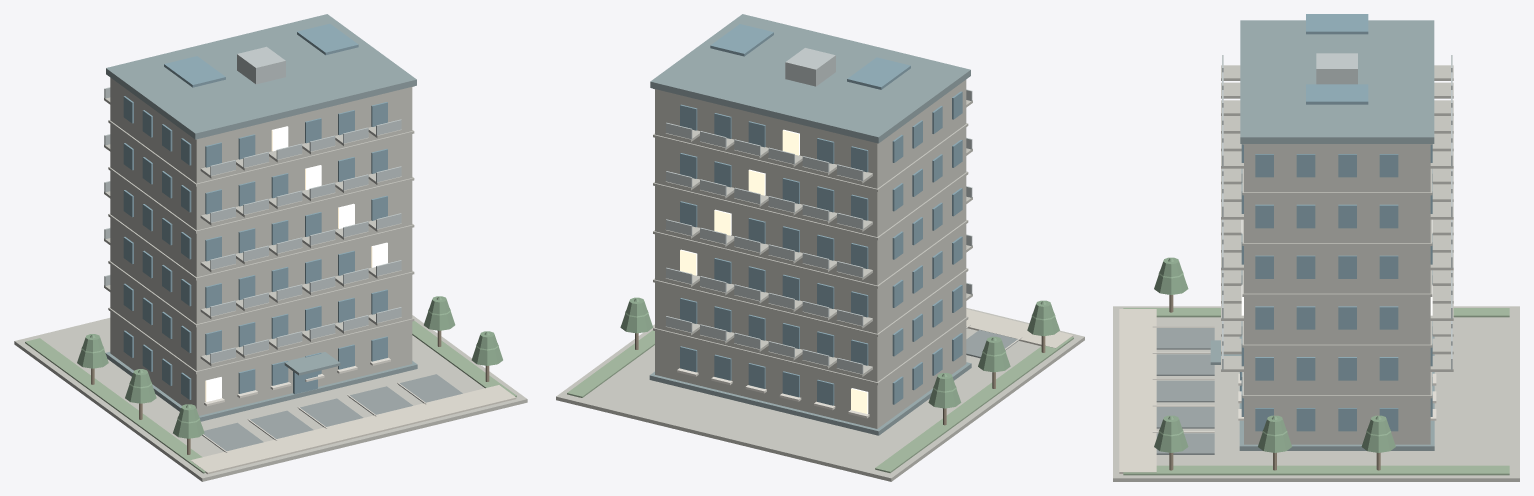
The model's file is remaster_apartment_11.glb.
3 views of the same model, side by side, from view 1: azimuth 30°, elevation 25°; view 2: azimuth 150°, elevation 25°; view 3: azimuth 270°, elevation 25° (orthographic). The views are drawn at different scales.
Parts seen in each view (by area): view 1: remaster_apartment_11 stone, remaster_apartment_11 roof, remaster_apartment_11 glass, remaster_apartment_11 metal, remaster_apartment_11 cream, remaster_apartment_11 asphalt, remaster_apartment_11 green, remaster_apartment_11 leaf, remaster_apartment_11 warm, remaster_apartment_11 white; view 2: remaster_apartment_11 stone, remaster_apartment_11 roof, remaster_apartment_11 glass, remaster_apartment_11 metal, remaster_apartment_11 green, remaster_apartment_11 leaf, remaster_apartment_11 warm, remaster_apartment_11 cream, remaster_apartment_11 white, remaster_apartment_11 asphalt; view 3: remaster_apartment_11 stone, remaster_apartment_11 roof, remaster_apartment_11 glass, remaster_apartment_11 cream, remaster_apartment_11 asphalt, remaster_apartment_11 green, remaster_apartment_11 leaf, remaster_apartment_11 metal, remaster_apartment_11 white.
Part boxes in pixels (x1,y1,x2,y2): remaster_apartment_11 stone: (14, 77, 527, 481); remaster_apartment_11 roof: (105, 14, 417, 421); remaster_apartment_11 glass: (123, 23, 387, 399); remaster_apartment_11 metal: (104, 46, 401, 363); remaster_apartment_11 cream: (190, 385, 516, 474); remaster_apartment_11 asphalt: (202, 374, 462, 451); remaster_apartment_11 green: (25, 321, 516, 473); remaster_apartment_11 leaf: (77, 296, 502, 438); remaster_apartment_11 warm: (205, 126, 387, 401); remaster_apartment_11 white: (202, 357, 426, 452); remaster_apartment_11 stone: (556, 80, 1084, 481); remaster_apartment_11 roof: (649, 14, 971, 435); remaster_apartment_11 glass: (680, 24, 962, 405); remaster_apartment_11 metal: (666, 48, 972, 374); remaster_apartment_11 green: (567, 330, 1073, 473); remaster_apartment_11 leaf: (620, 297, 1059, 408); remaster_apartment_11 warm: (680, 129, 868, 413); remaster_apartment_11 cream: (966, 309, 1073, 348); remaster_apartment_11 white: (677, 324, 1022, 418); remaster_apartment_11 asphalt: (966, 328, 1018, 358); remaster_apartment_11 stone: (1113, 65, 1519, 481); remaster_apartment_11 roof: (1210, 20, 1434, 450); remaster_apartment_11 glass: (1240, 14, 1432, 431); remaster_apartment_11 cream: (1119, 309, 1156, 473); remaster_apartment_11 asphalt: (1156, 328, 1214, 454); remaster_apartment_11 green: (1123, 308, 1509, 475); remaster_apartment_11 leaf: (1154, 257, 1395, 452); remaster_apartment_11 metal: (1222, 53, 1452, 370); remaster_apartment_11 white: (1152, 326, 1436, 432).
Bounding box in the file's own units: 19.65 × 17.98 × 19.6.
